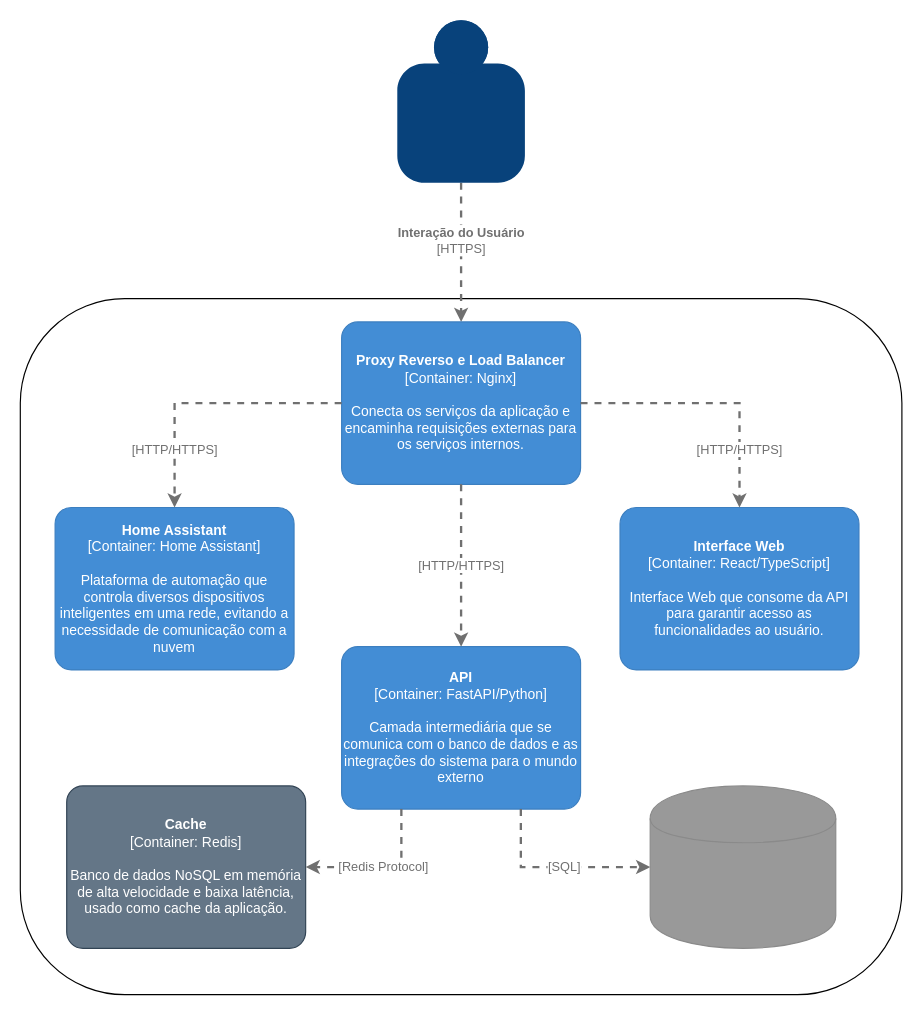
This 922x1015 diagram has some shape labels left out. Each missing label, with the centre of its shape:
"Database [Container: Postgres SQL]" belongs at (742,866).
"Usuário [Person] Acessa o sistema" belongs at (460,101).
